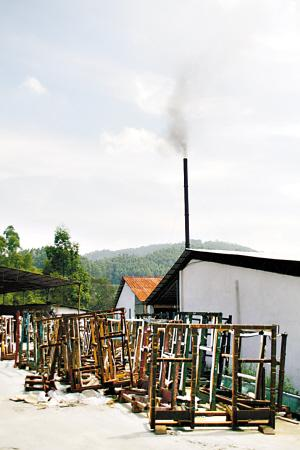smoke: (158, 61, 201, 158)
